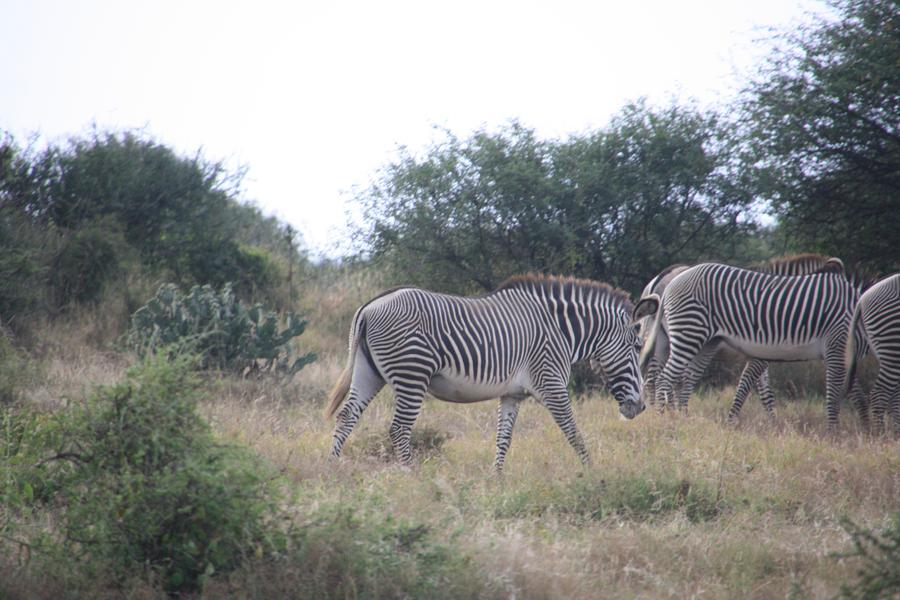zebra_grevys: (355, 286, 573, 388)
